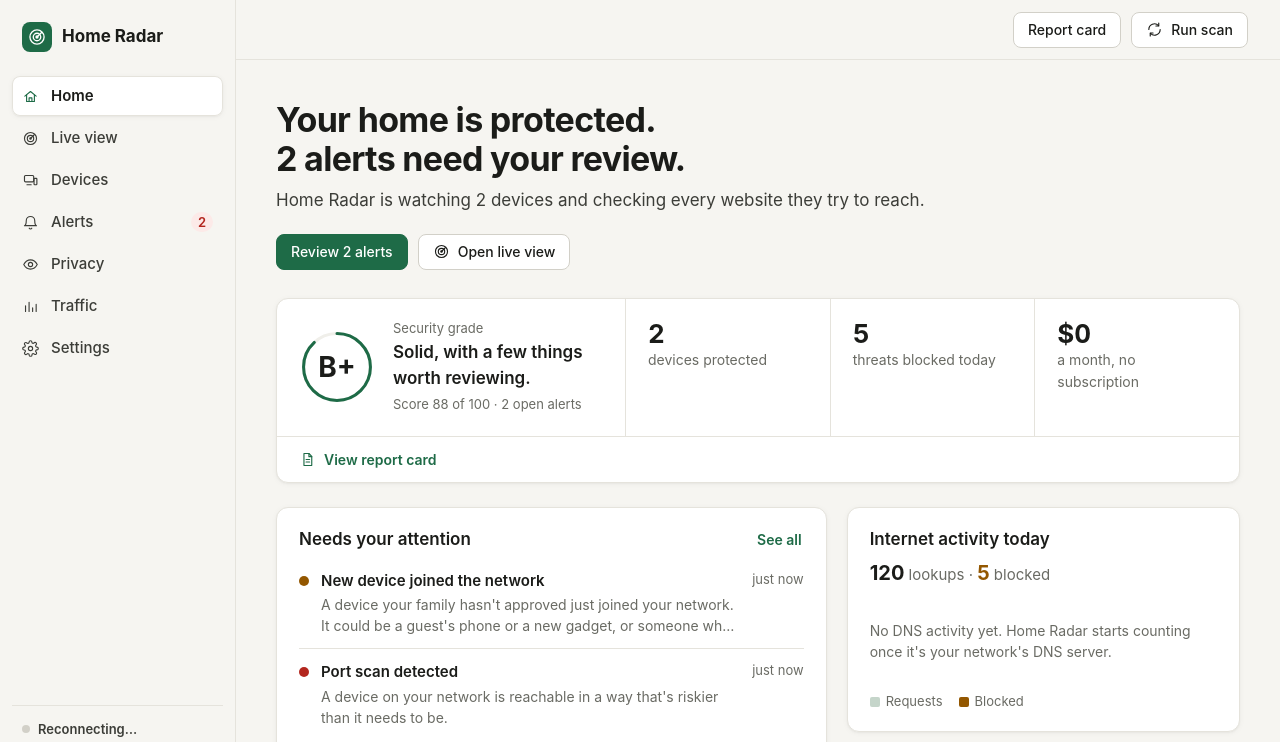
Scenario: Settings validation and demo household › shows the server's message next to the field it applies to
Click the button "Settings": click(118, 348) [12,328,223,368]
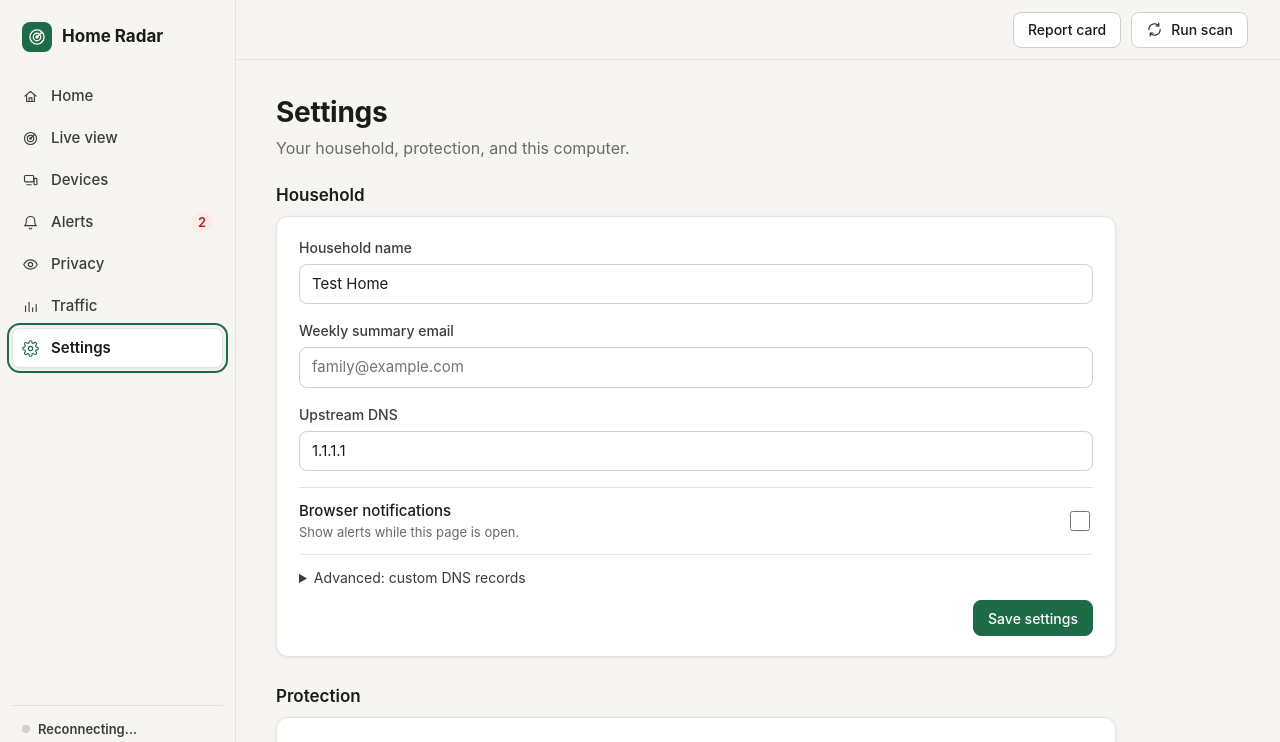
Click the button "Save settings": click(1033, 618) [973,600,1093,636]
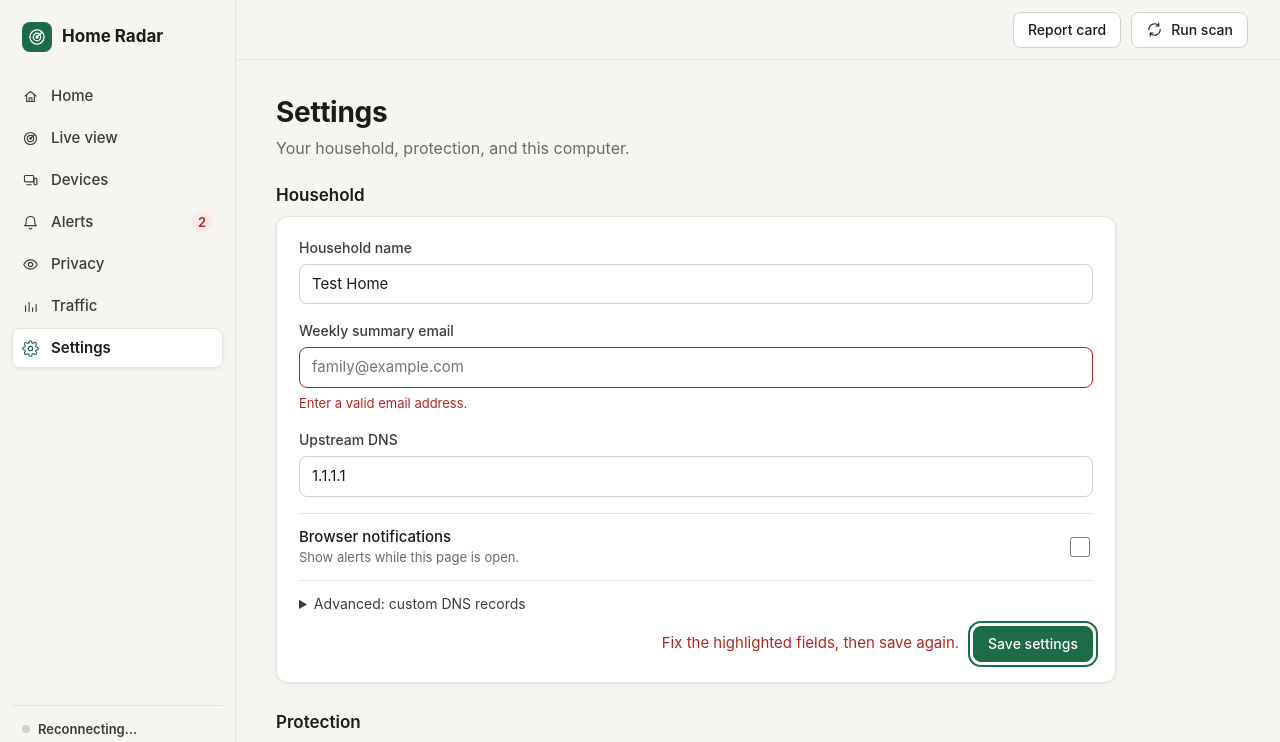
Result: the text "Enter a valid email address." is shown at [299,395,467,411]
Result: the message shows "Fix the highlighted fields" at [662,633,959,652]
